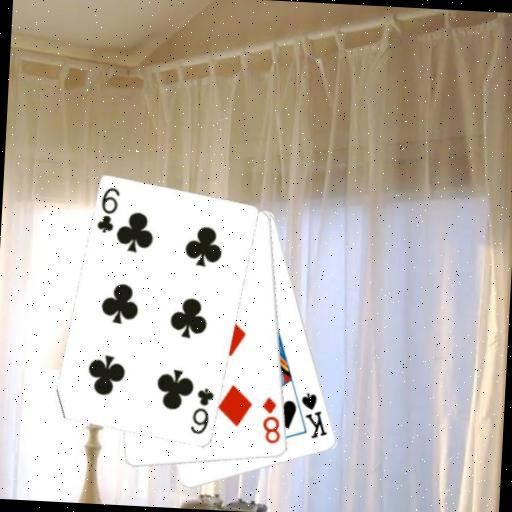6C: (187, 385, 217, 437), (94, 184, 122, 236)
8D: (258, 394, 285, 446)
KS: (297, 388, 332, 441)
